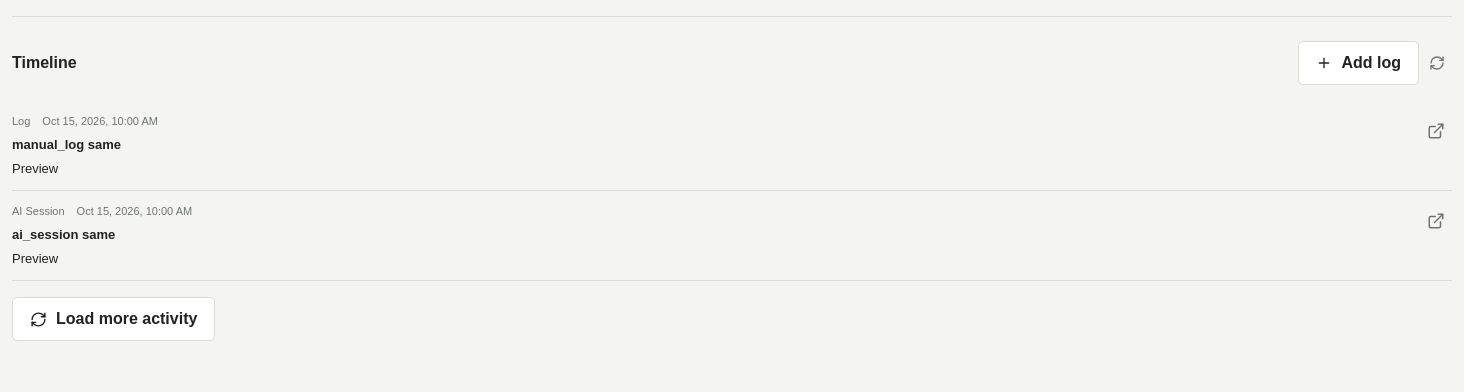
Test: pages preserve opaque cursor, deduplicate by kind/id, retry independently and refresh page one
Step 1. Click the button "Load more activity" → click(114, 319), box [12,297,215,341]
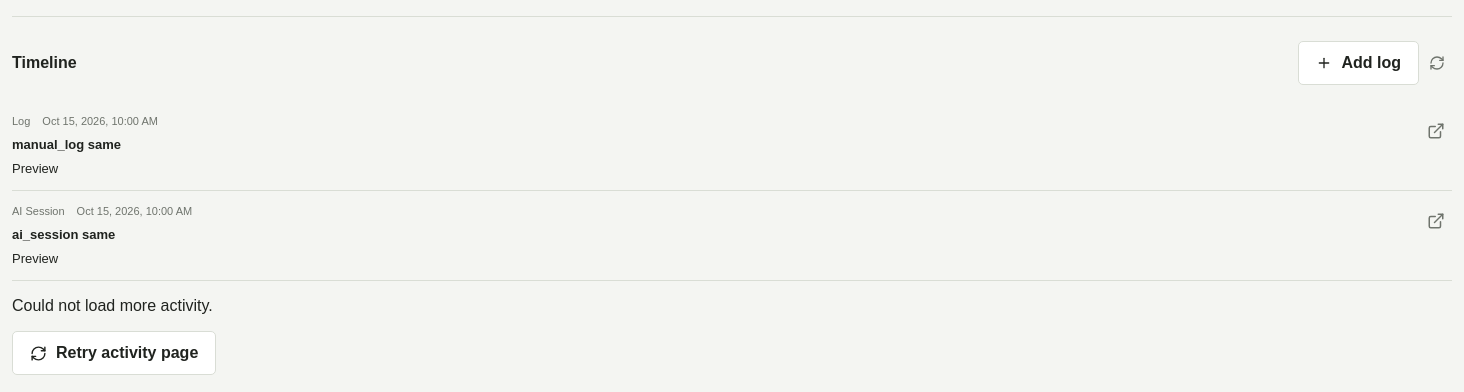
Expected: the text "manual_log same" is shown, [12,137,121,152]
Result: the text "Could not load more activity." is shown at [12,297,213,314]
Step 2. Click the button "Retry activity page" → click(114, 353), box [12,331,216,375]
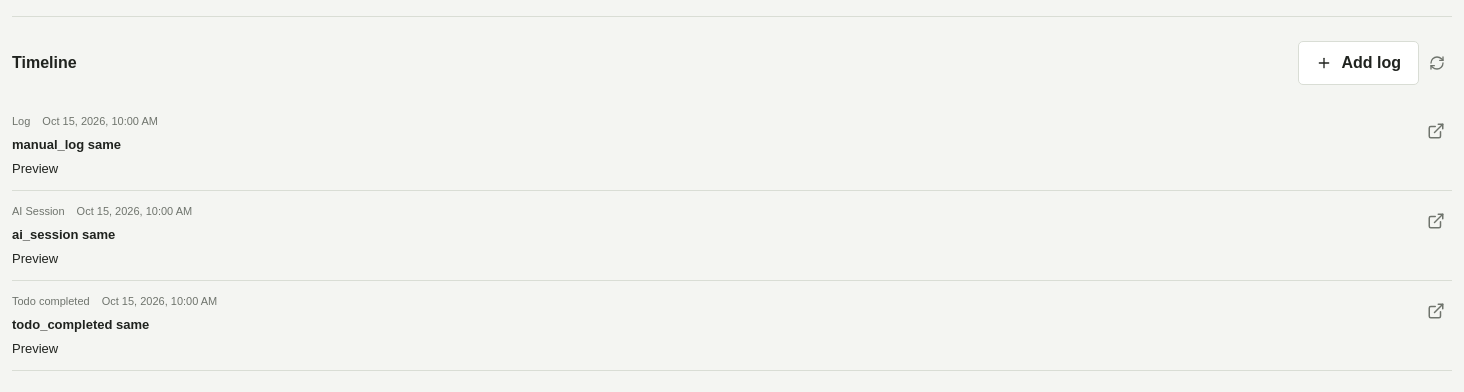
Result: the text "todo_completed same" is shown at [12,317,149,332]
Result: the number of list items is 3 at [12,101,1452,191]; [12,191,1452,281]; [12,281,1452,371]
Step 3. Click the button named "Refresh timeline" → click(1437, 63), box [1422,47,1452,79]
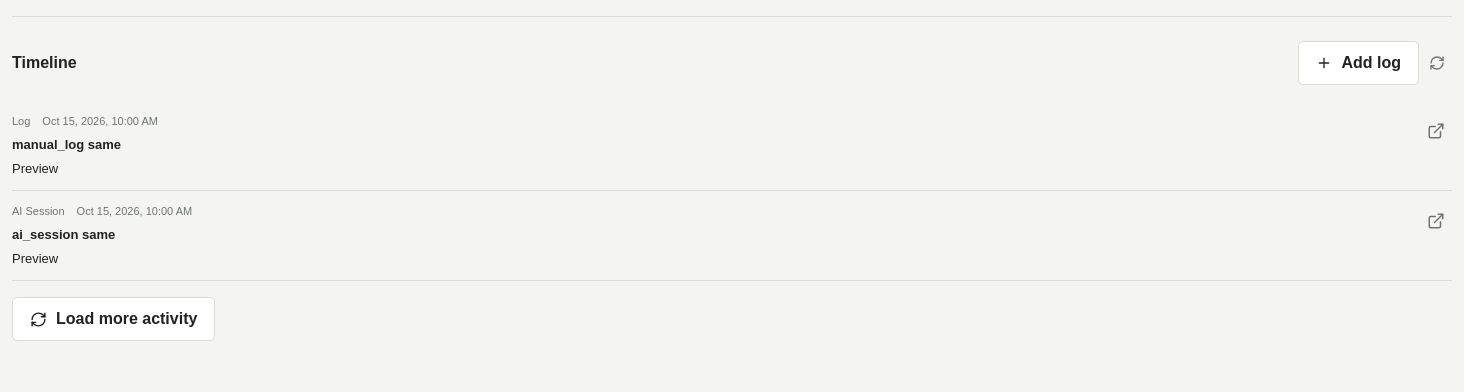
Result: the text "todo_completed same" is gone
